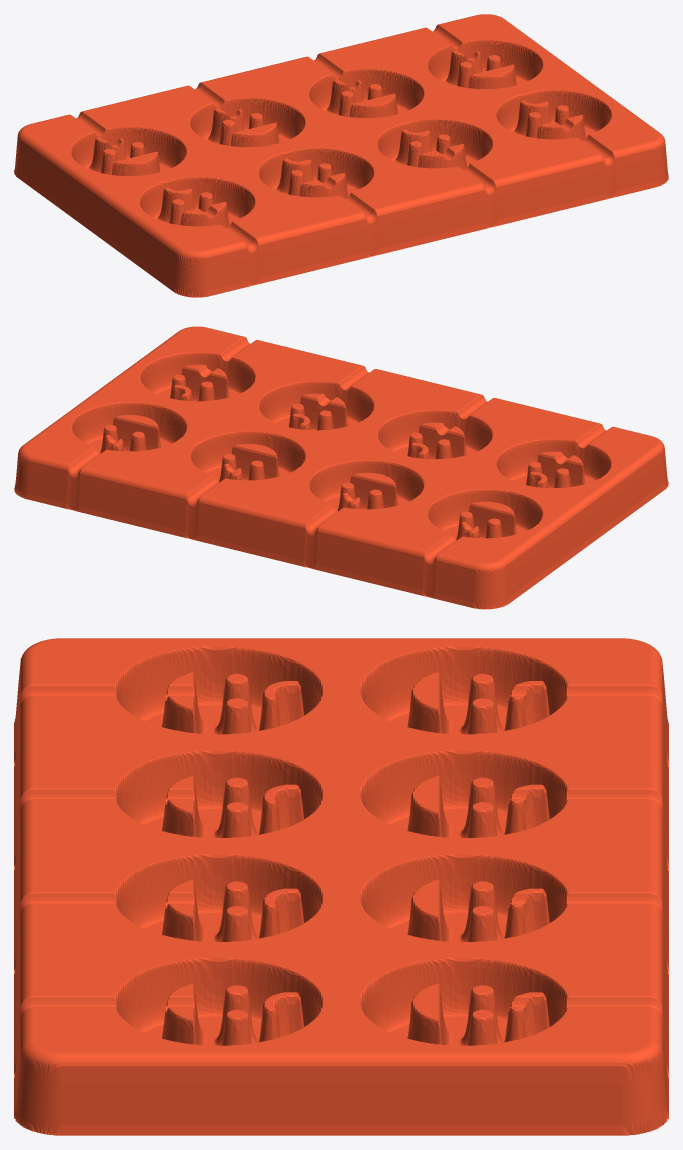
Rendered from mold.glb.
The picture shows the model from 3 angles, top to bottom: view 1: azimuth 30°, elevation 25°; view 2: azimuth 150°, elevation 25°; view 3: azimuth 270°, elevation 25°; orthographic projection. The views are drawn at different scales.
Visible parts, largest first — view 1: geometry_0; view 2: geometry_0; view 3: geometry_0.
Part boxes in pixels (x1,y1,x2,y2): geometry_0: (14,14,668,297); geometry_0: (14,326,668,609); geometry_0: (14,638,668,1135).
Bounding box in the file's own units: 0.1907 × 0.0155 × 0.1229.
